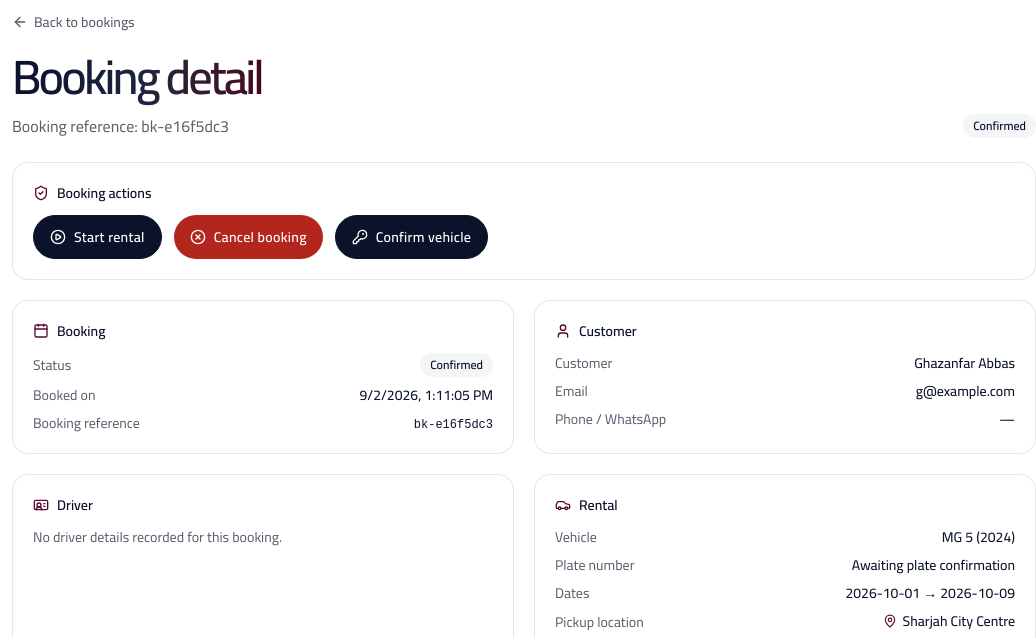
it: BookingDetailPage — Phase 14 Confirm Vehicle action › shows an inline error and does not reload the booking when the RPC rejects (e.g. plate conflict)
Click the button "Confirm vehicle": point(412, 237) top-left (335, 215), bottom-right (488, 259)
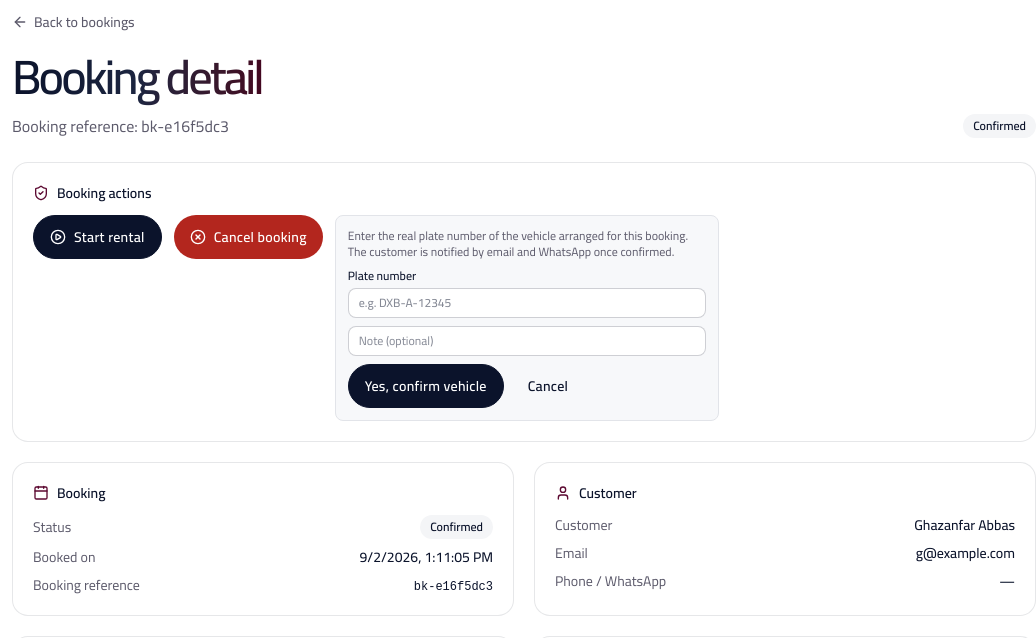
In the field with placeholder "e.g. DXB-A-12345": point(527, 303) top-left (348, 288), bottom-right (706, 318), type "DXB-A-1"
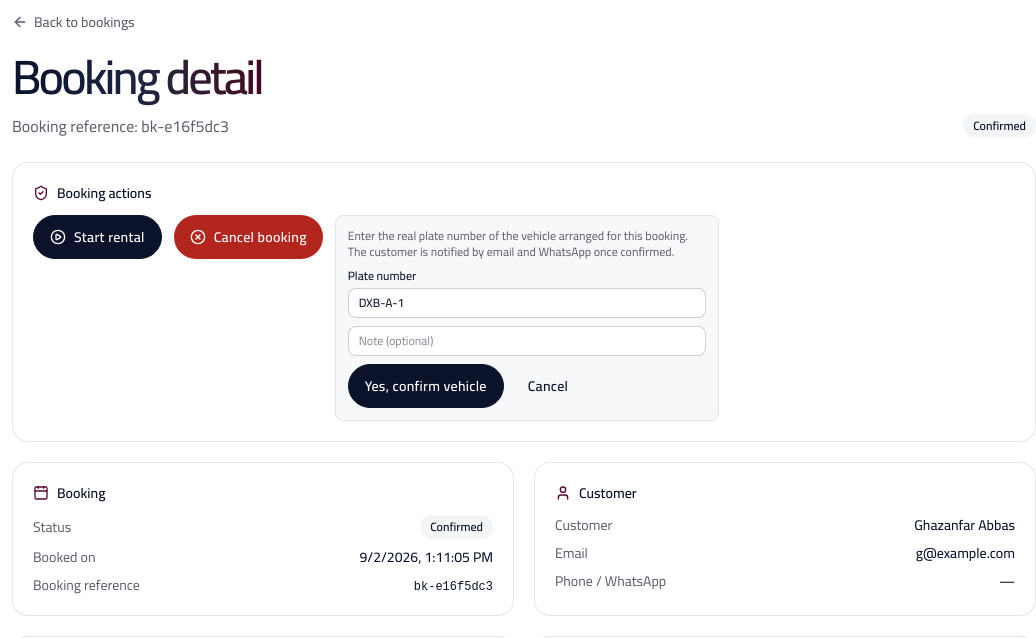
Click the button "Yes, confirm vehicle": point(426, 386) top-left (348, 364), bottom-right (504, 408)
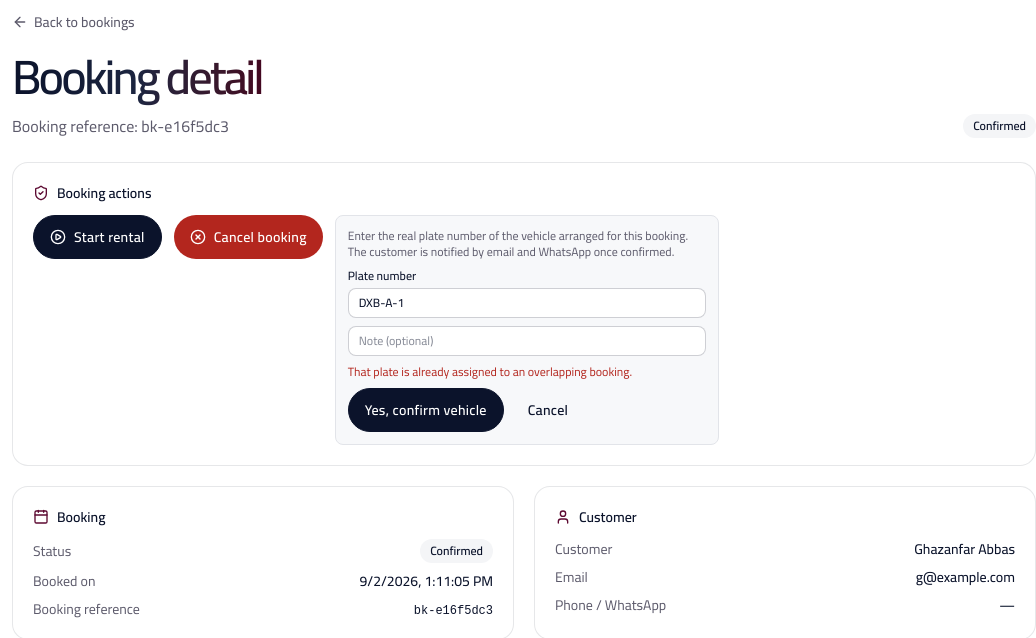
Check: the text "That plate is already assigned to an overlapping booking." is shown, box top-left (348, 360), bottom-right (632, 383)
